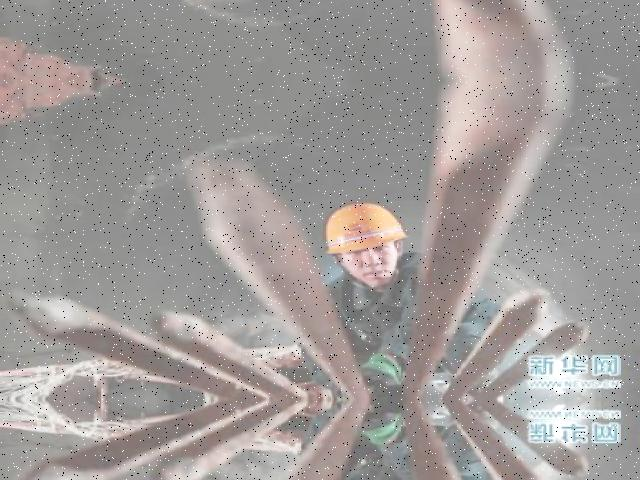Helmet: (318, 198, 414, 262)
